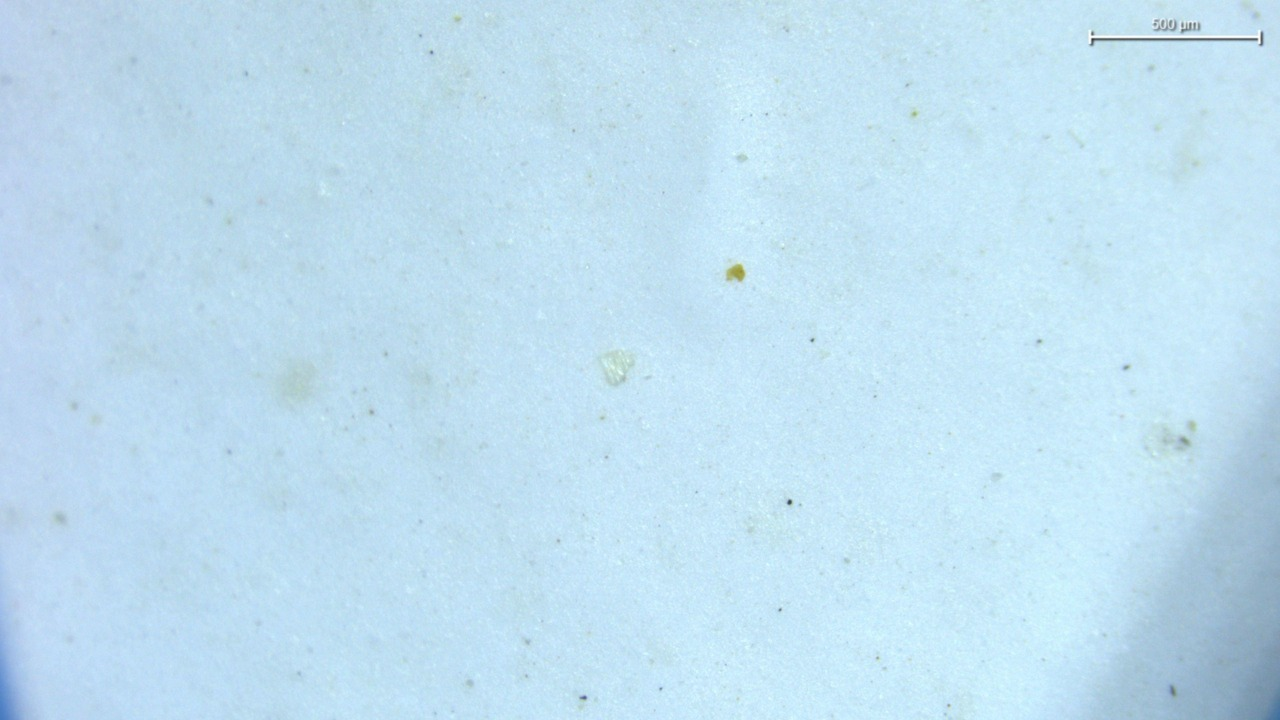microplastic_fragment: (598, 349, 634, 386)
